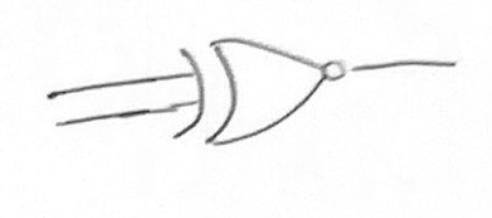XNOR: (173, 27, 353, 162)
